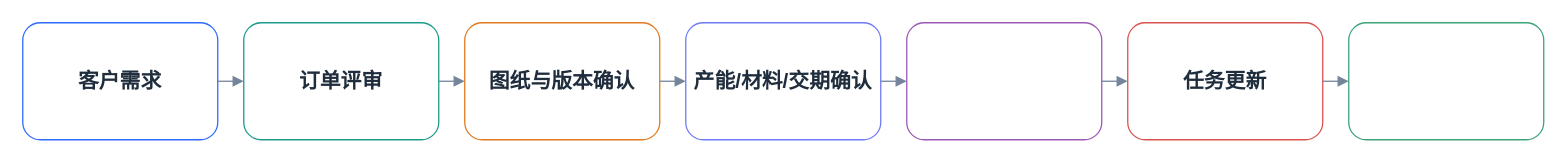
The diagram is 1567 pixels wide and 163 high, and some of its shapes have lost their labels. The centre of each missing label's shape, as x and y in pixels:
"变更批准" goes at (1003,80).
"客户回传与留痕" goes at (1445,80).
